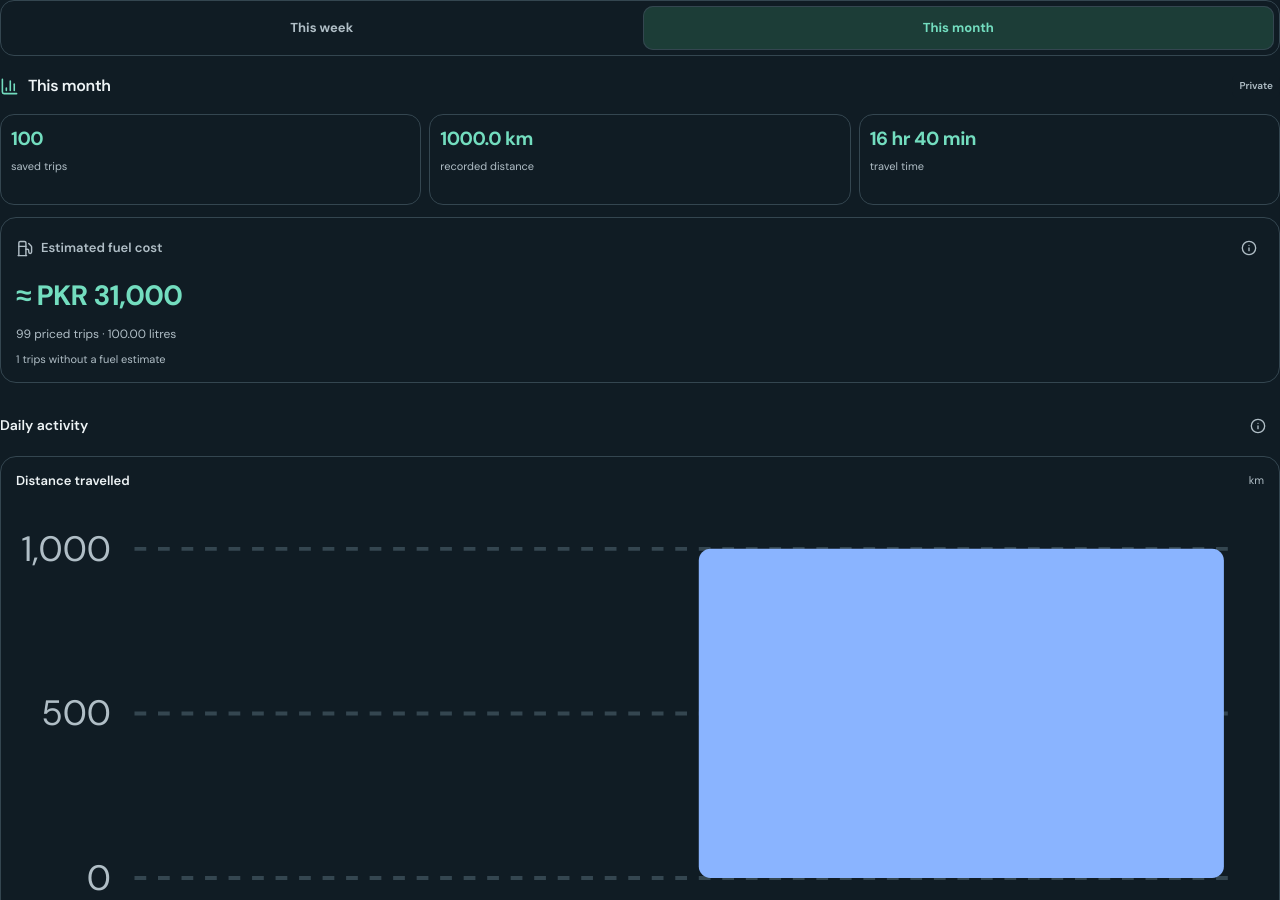
switches weekly and monthly charts without fetching again, and exposes exact daily values
The width and height of the screenshot is (1280, 900).
Expected: the text "≈ PKR 31,000" is shown, [16,277,182,314]
Click the tab "This week" at {"x": 322, "y": 28}, box [6,6,638,50]
(page scrolled)
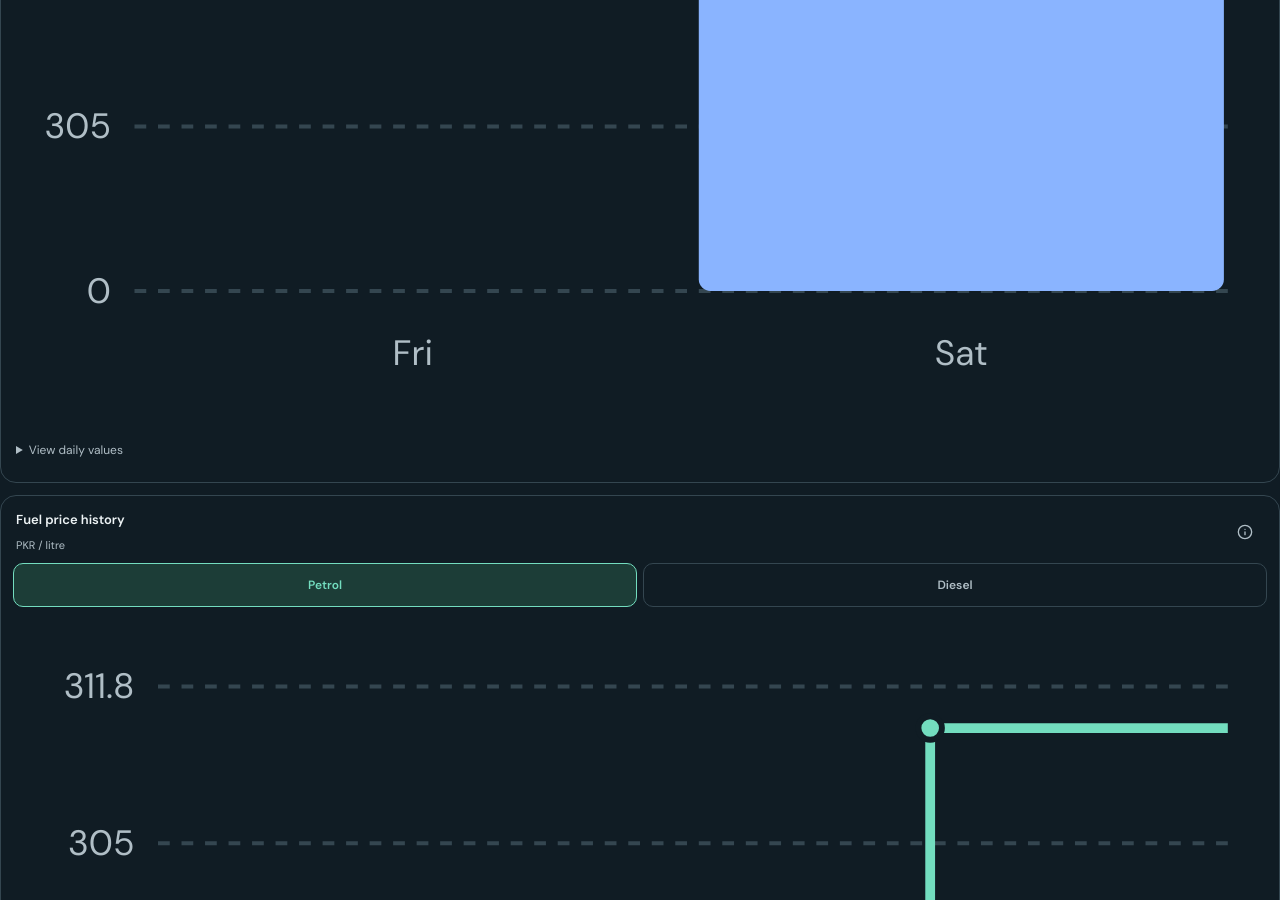
Click the heading "View daily values" at {"x": 76, "y": 450}, box [29,442,123,458]
(page scrolled)
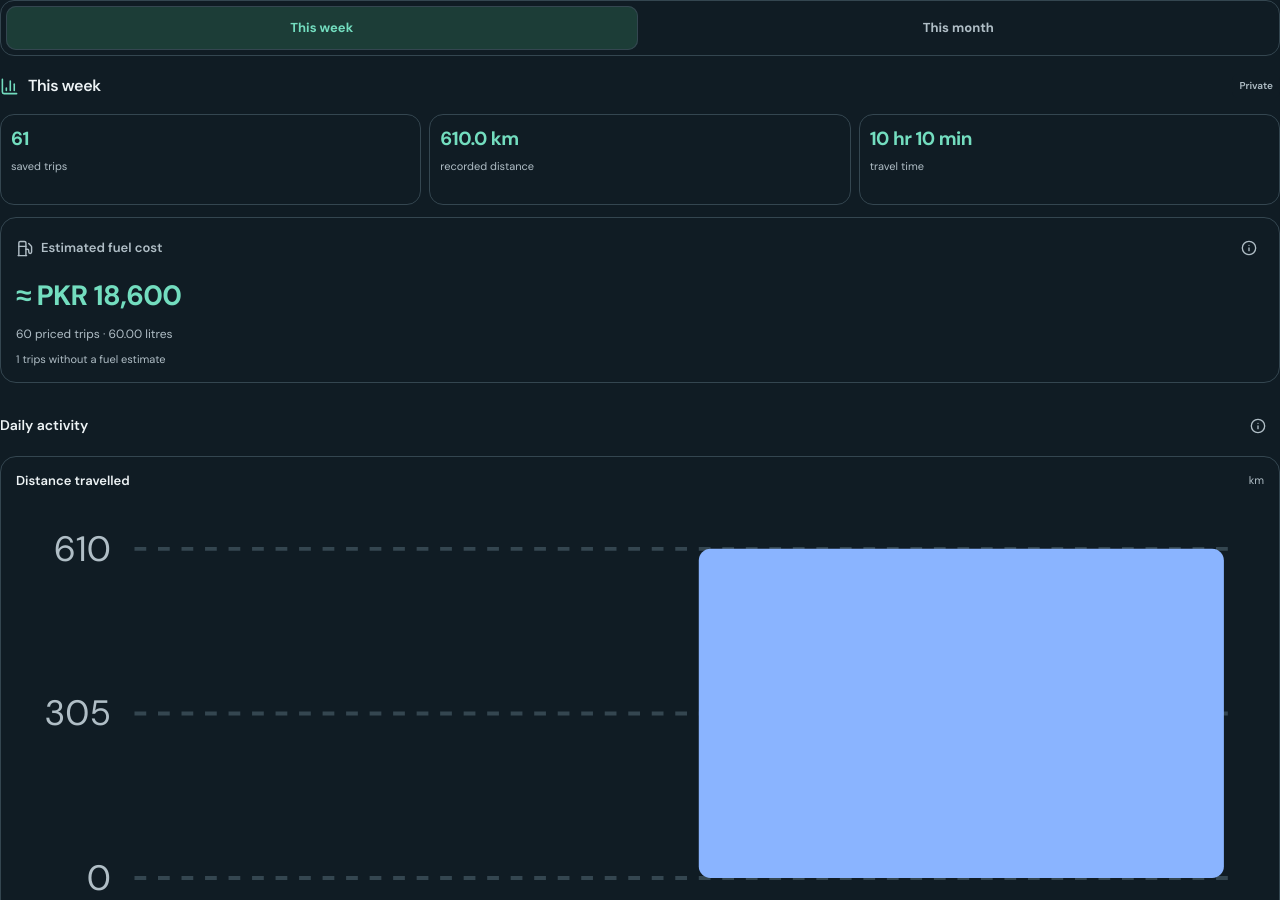
Press End in the tab "This week", box [6,6,638,50]
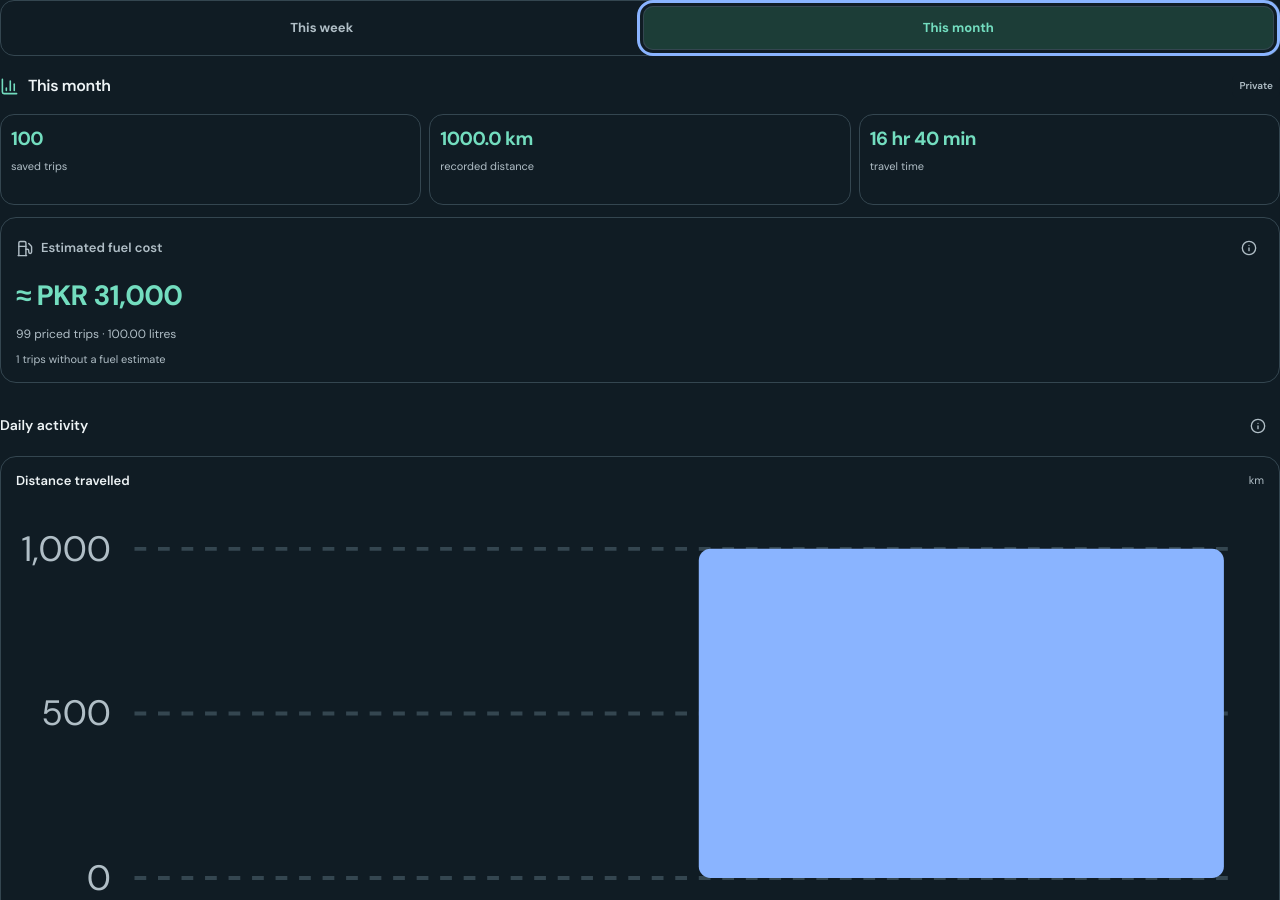
Result: the text "≈ PKR 31,000" is shown at [16,277,182,314]
